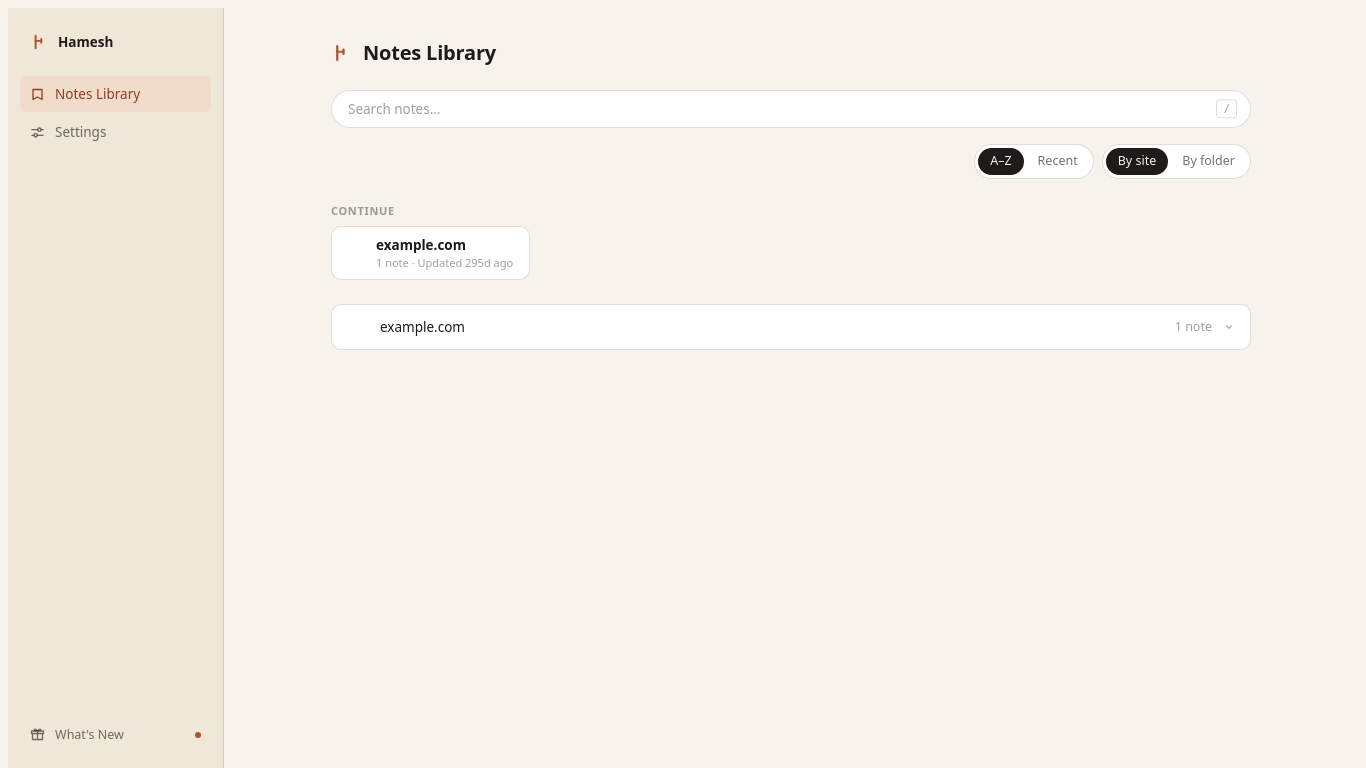
Test: Notes Library page › search › auto-expands a matched group so the matching note is visible without clicking
Type "specific searchable" into the search field with placeholder "Search notes…" at (791, 109), box [331, 90, 1251, 128]
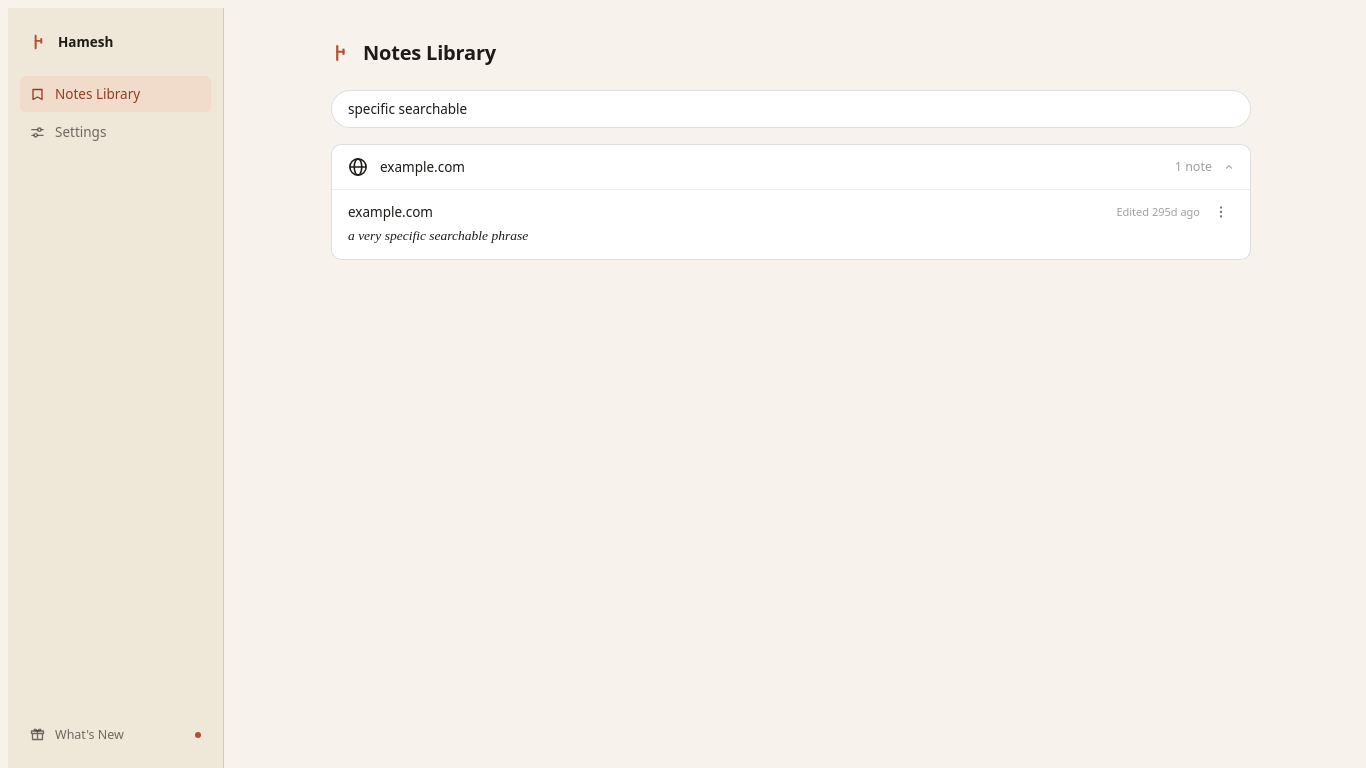
Check: the button "example.com 1 note" is expanded, box [332, 145, 1250, 190]
Check: the text "a very specific searchable phrase" is shown, box [348, 228, 528, 243]
